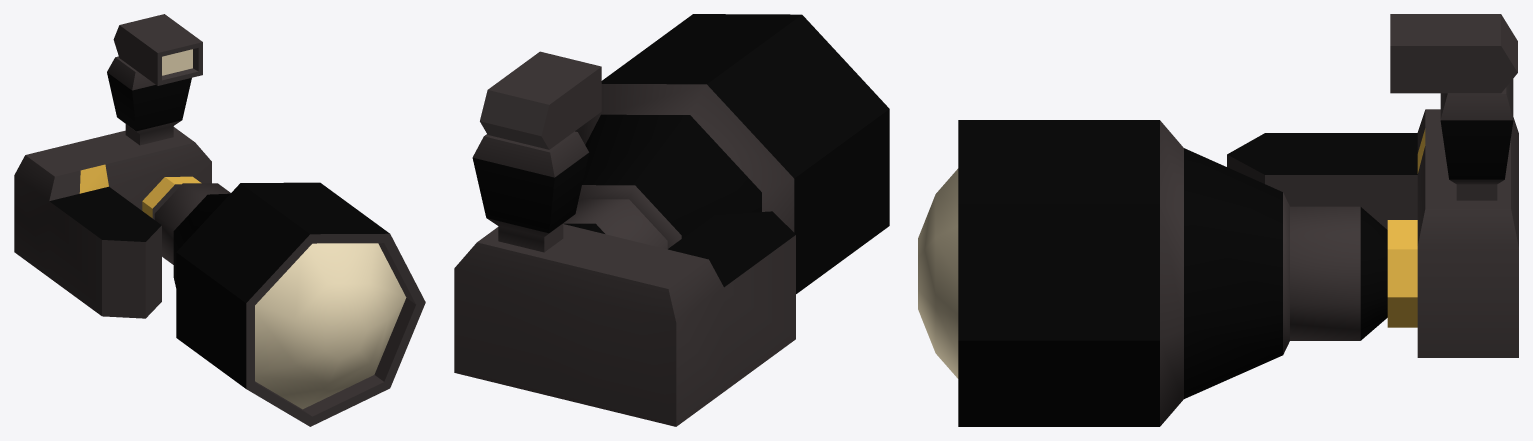
The model's file is SM_Camera.FBX.
3 views of the same model, side by side, from view 1: azimuth 30°, elevation 25°; view 2: azimuth 150°, elevation 25°; view 3: azimuth 270°, elevation 25° (orthographic). The views are drawn at different scales.
Visible parts, largest first — view 1: Box012; view 2: Box012; view 3: Box012.
Part boxes in pixels (x1=…): Box012: x1=14, y1=14, x2=425, y2=426; Box012: x1=454, y1=14, x2=889, y2=426; Box012: x1=918, y1=14, x2=1518, y2=426.
Bounding box in the file's own units: 8.32 × 9.69 × 13.8.
